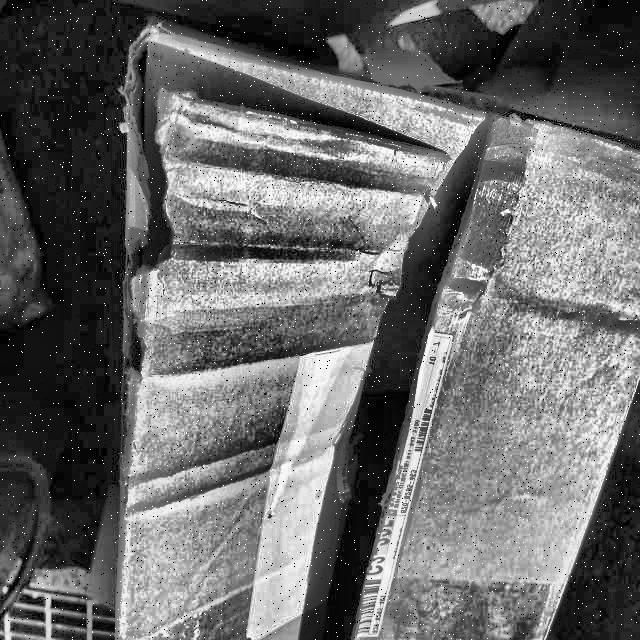box: (97, 16, 640, 639)
hole: (112, 38, 190, 386)
